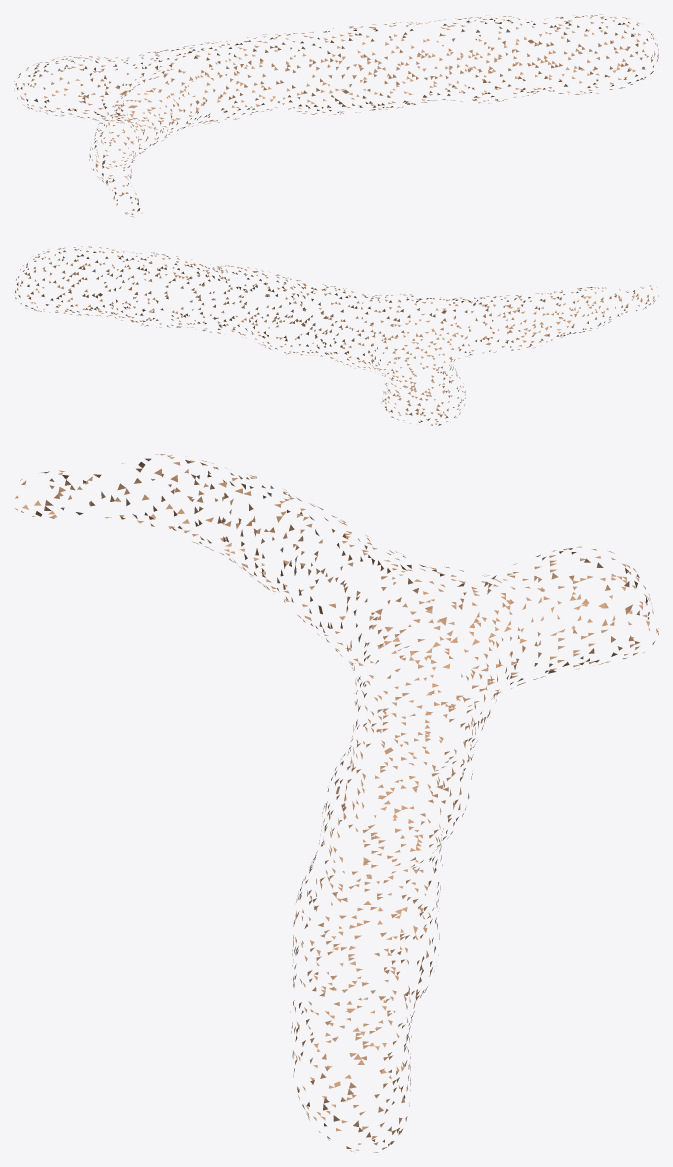
File: morph_005.glb
3 renders of one model, top to bottom at view 1: azimuth 30°, elevation 25°; view 2: azimuth 150°, elevation 25°; view 3: azimuth 270°, elevation 25°, orthographic. The views are drawn at different scales.
Size of the model in its own units: 120 by 22.98 by 62.15.
